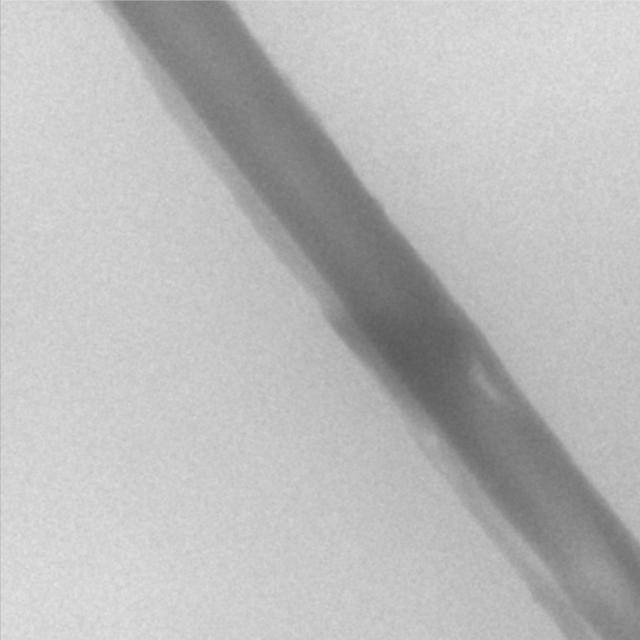unfused: (469, 361, 500, 401)
